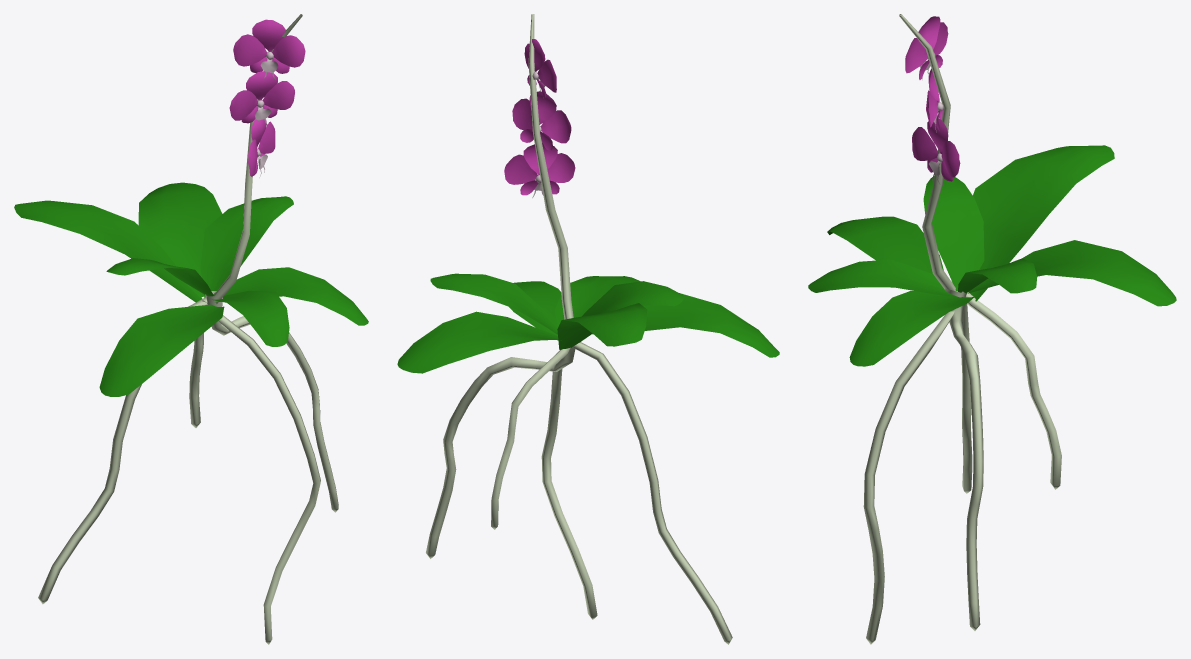
The model's file is Orchid_02.fbx.
The picture shows the model from 3 angles, left to right: view 1: azimuth 30°, elevation 25°; view 2: azimuth 150°, elevation 25°; view 3: azimuth 270°, elevation 25°; orthographic projection. The views are drawn at different scales.
Visible parts, largest first — view 1: Orchid_02, Orchid_02_roots, Orchid_02_flower; view 2: Orchid_02, Orchid_02_roots, Orchid_02_flower; view 3: Orchid_02, Orchid_02_roots, Orchid_02_flower.
Part boxes in pixels (box(x1,y1,x2,y2)): Orchid_02: box(14, 182, 368, 396); Orchid_02_roots: box(38, 14, 338, 644); Orchid_02_flower: box(229, 19, 305, 177); Orchid_02: box(397, 273, 779, 373); Orchid_02_roots: box(426, 14, 732, 644); Orchid_02_flower: box(504, 39, 575, 198); Orchid_02: box(808, 145, 1176, 366); Orchid_02_roots: box(863, 14, 1061, 644); Orchid_02_flower: box(905, 16, 960, 184).
Size of the model in its own units: 0.8902 by 1.71 by 0.8697.
